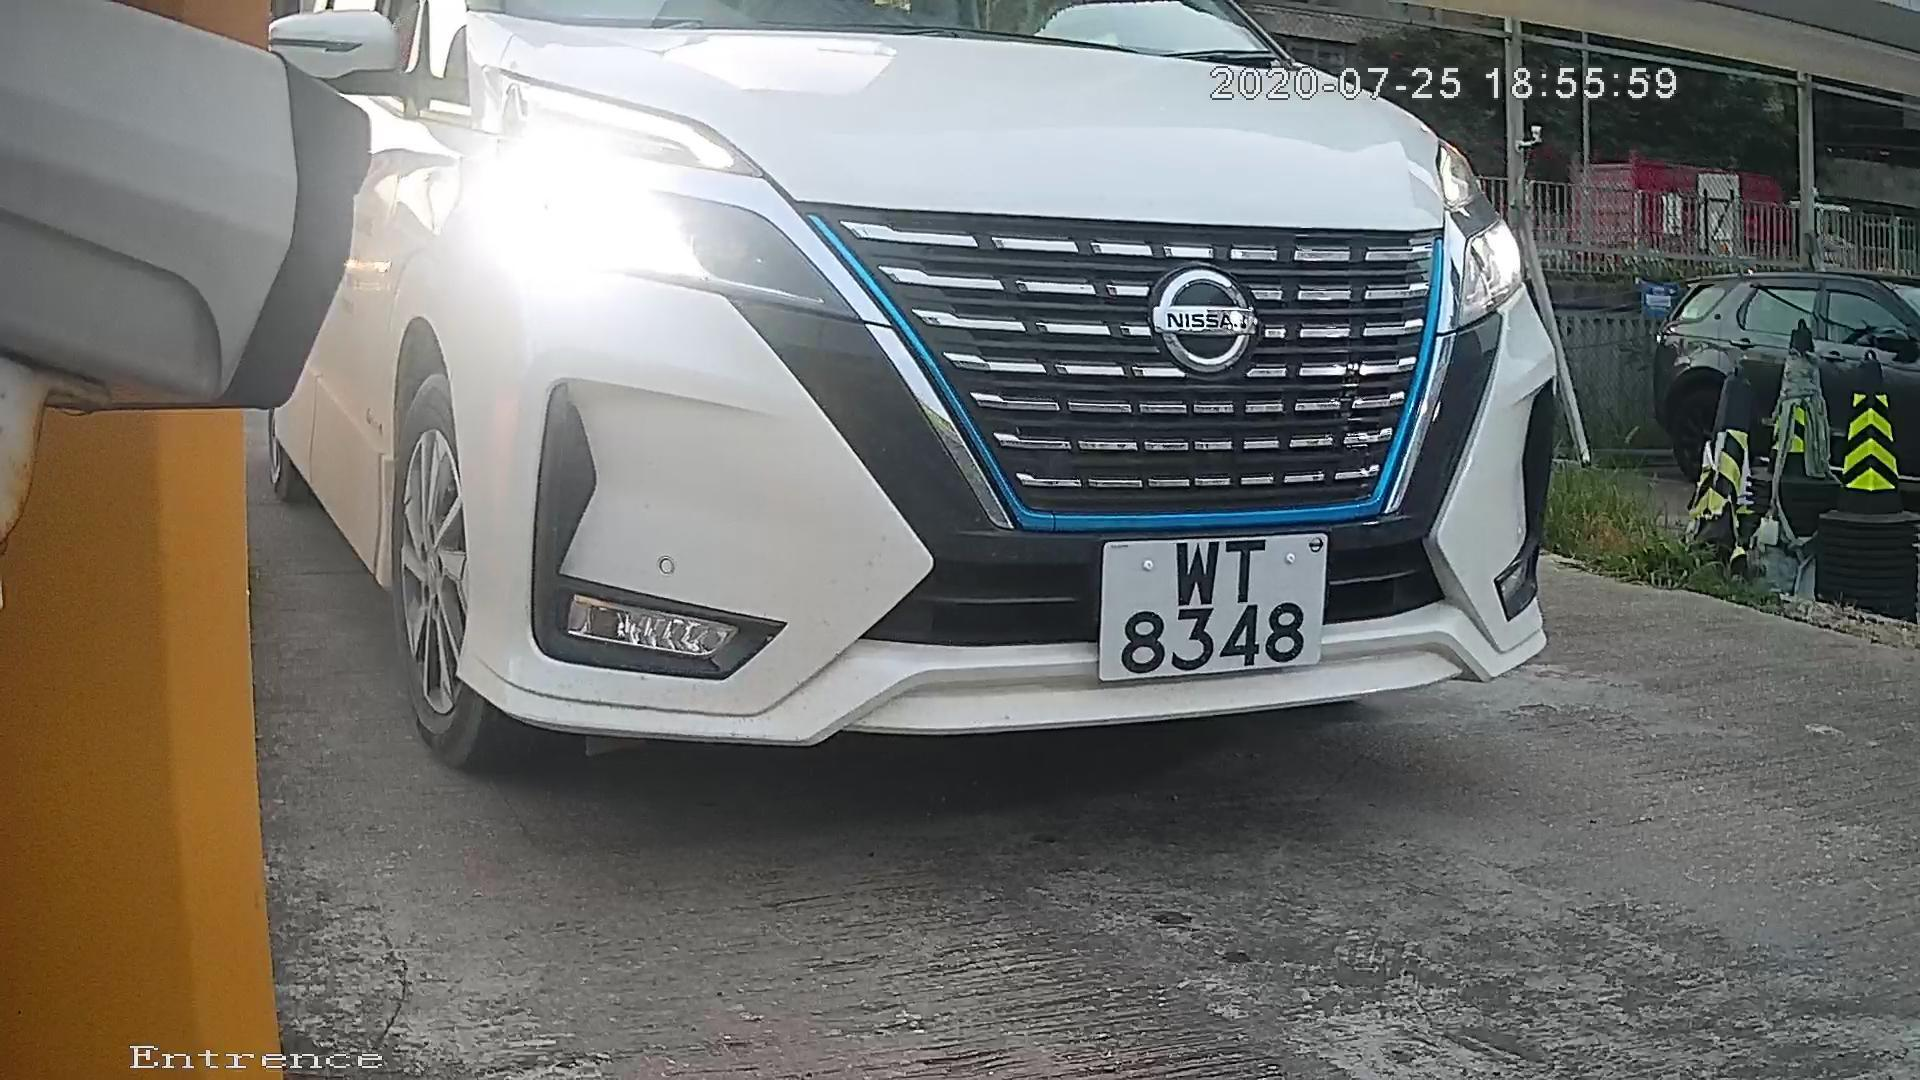privatecar: (276, 1, 1689, 815)
